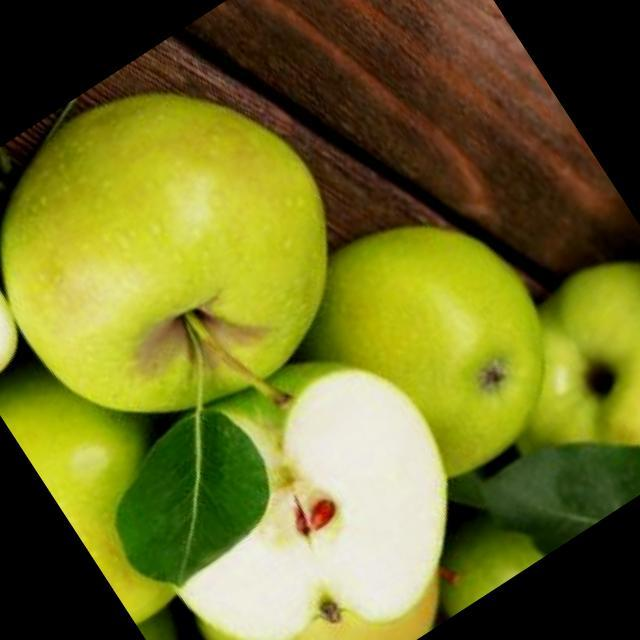Green Apple: (1, 91, 330, 415), (172, 362, 449, 640), (302, 225, 545, 479), (519, 260, 640, 457)
